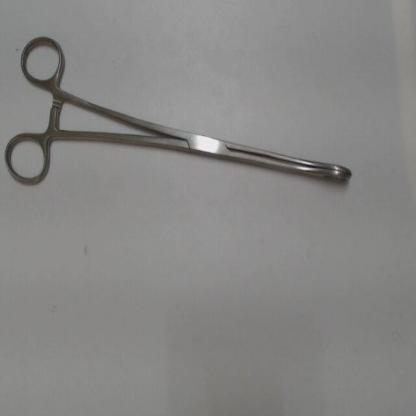Sponge Forceps: (0, 31, 364, 197)
